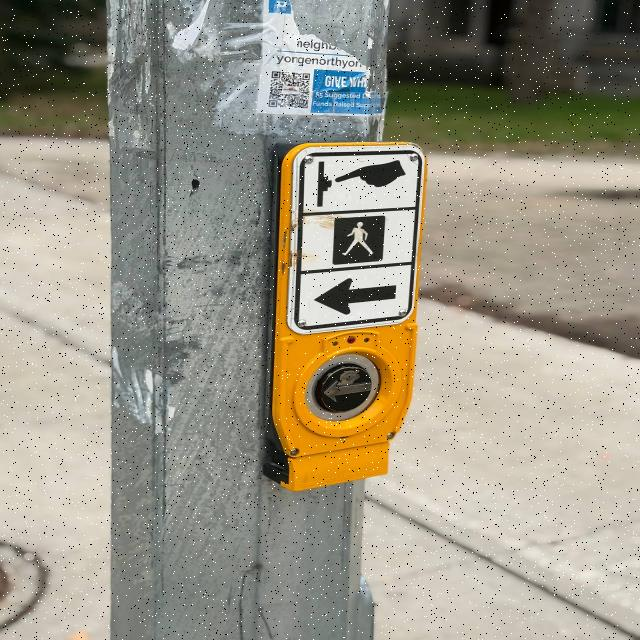Electrical Pole: (100, 4, 431, 640)
